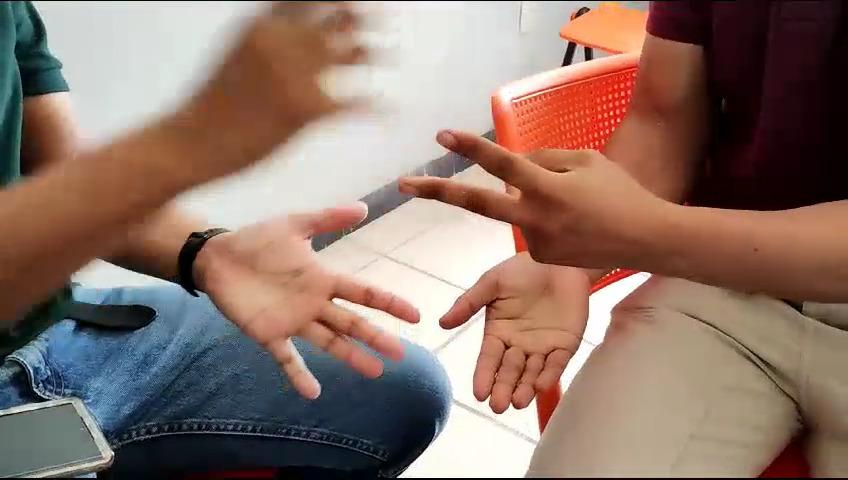Paper: (185, 195, 428, 401), (435, 256, 609, 414)
Scissor: (395, 103, 655, 278)
